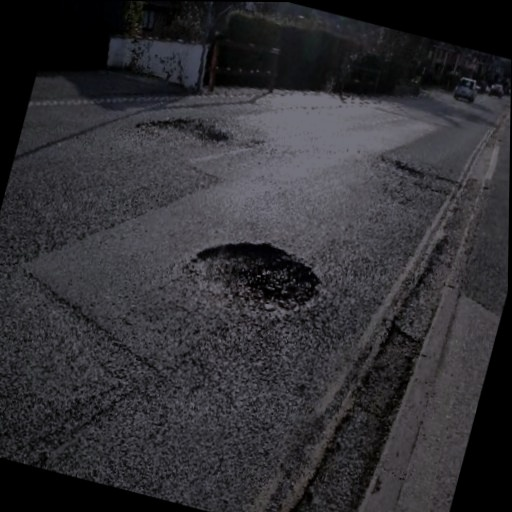pothole: (174, 220, 333, 332), (131, 102, 231, 155)
